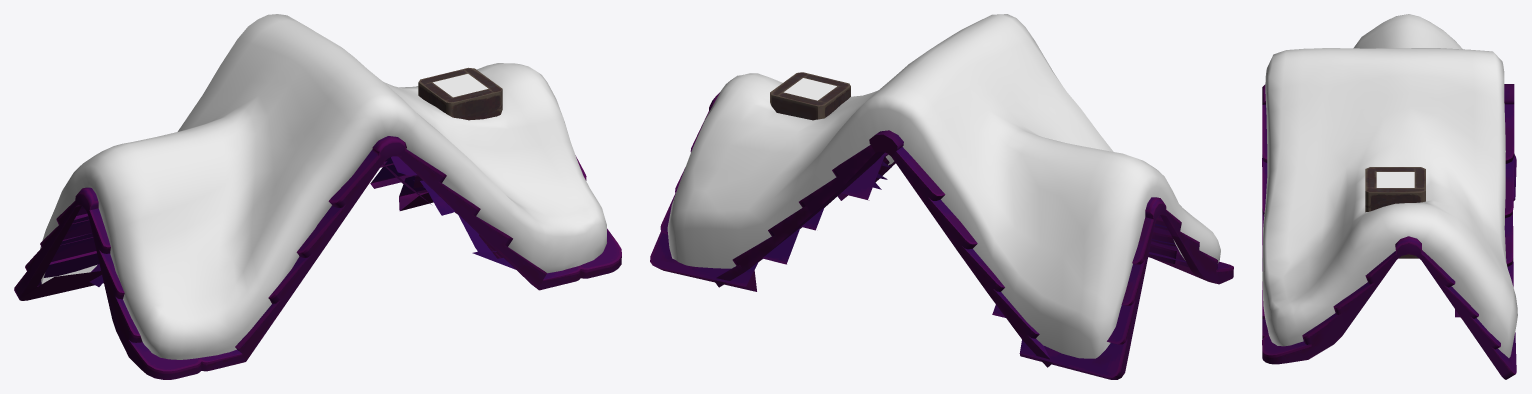
The model's file is standard_roof_3.glb.
3 views of the same model, side by side, from view 1: azimuth 30°, elevation 25°; view 2: azimuth 150°, elevation 25°; view 3: azimuth 270°, elevation 25° (orthographic). The views are drawn at different scales.
Visible parts, largest first — view 1: Snow__mWinterSnow, RoofBase01_low__mRoofA, Base_low__mRoofB, Chimneyhole__mChimneyhole; view 2: Snow__mWinterSnow, RoofBase01_low__mRoofA, Base_low__mRoofB, Chimneyhole__mChimneyhole; view 3: Snow__mWinterSnow, RoofBase01_low__mRoofA, Base_low__mRoofB, Chimneyhole__mChimneyhole.
Boxes of the visible parts, x1=… form: Snow__mWinterSnow: x1=40, y1=14, x2=606, y2=359; RoofBase01_low__mRoofA: x1=14, y1=149, x2=621, y2=379; Base_low__mRoofB: x1=19, y1=67, x2=502, y2=300; Chimneyhole__mChimneyhole: x1=433, y1=74, x2=488, y2=97; Snow__mWinterSnow: x1=667, y1=14, x2=1220, y2=358; RoofBase01_low__mRoofA: x1=650, y1=111, x2=1233, y2=379; Base_low__mRoofB: x1=709, y1=72, x2=1218, y2=291; Chimneyhole__mChimneyhole: x1=784, y1=78, x2=836, y2=100; Snow__mWinterSnow: x1=1262, y1=14, x2=1517, y2=357; RoofBase01_low__mRoofA: x1=1262, y1=104, x2=1516, y2=379; Base_low__mRoofB: x1=1262, y1=84, x2=1514, y2=259; Chimneyhole__mChimneyhole: x1=1376, y1=172, x2=1414, y2=187.
Bounding box in the file's own units: 47.25 × 22.02 × 23.02.
4 materials, 2 textured.
